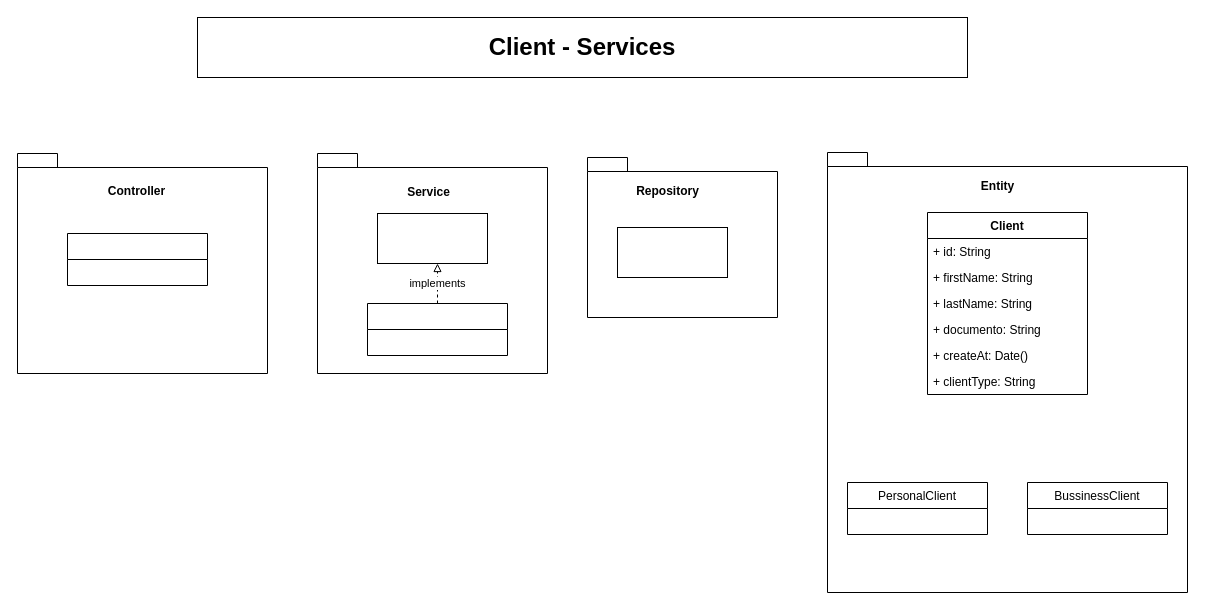
Some shapes in this 1205 by 610 pixel diagram are drawn without their labels. Each missing label, with the centre of its shape:
"ClientController" goes at point (137, 259).
"ClientServiceImpl" goes at point (437, 329).
"«interface» ClientRepository" goes at point (672, 252).
"«interface» ClientService" goes at point (432, 238).
